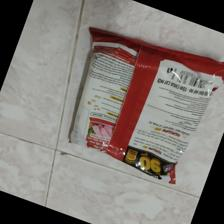Kokomi: (66, 25, 224, 187)
